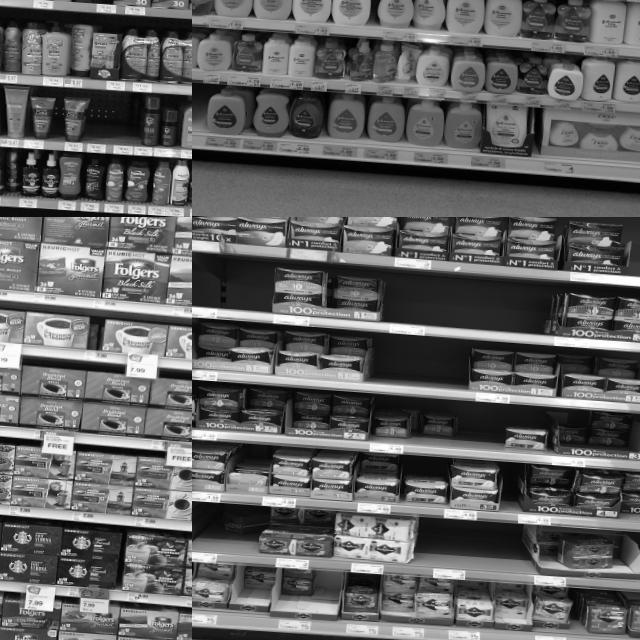empty: (382, 274, 546, 343), (418, 517, 518, 583), (372, 336, 468, 399), (192, 256, 273, 321), (456, 401, 507, 460), (86, 94, 113, 154), (112, 94, 138, 155), (192, 85, 205, 147)
